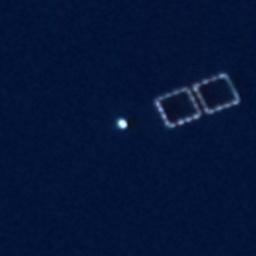square_solid: (190, 66, 245, 120), (151, 82, 206, 132)
